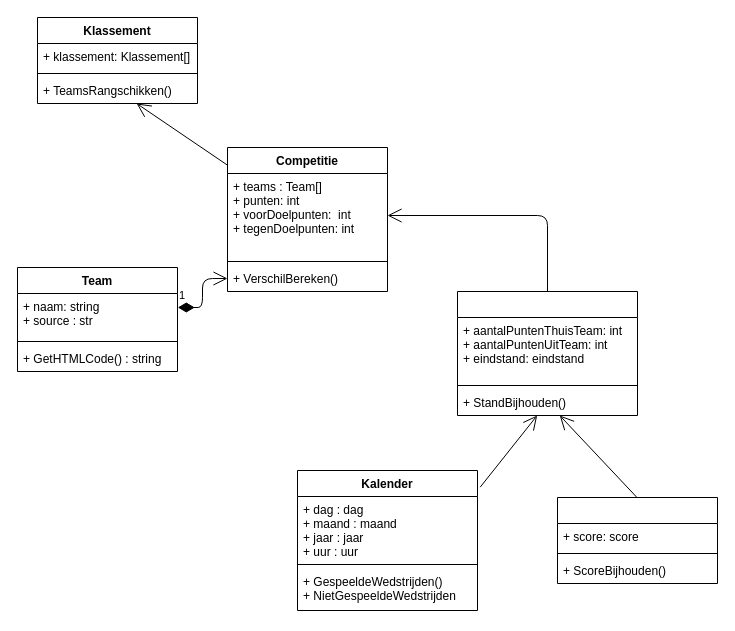
The diagram is 735 pixels wide and 631 high, and some of its shapes have lost their labels. The box of each missing label's shape, as (x1, y1, x2, y2) in pixels:
Eindstand: (556, 496, 718, 584)
Wedstrijd: (456, 290, 638, 416)
